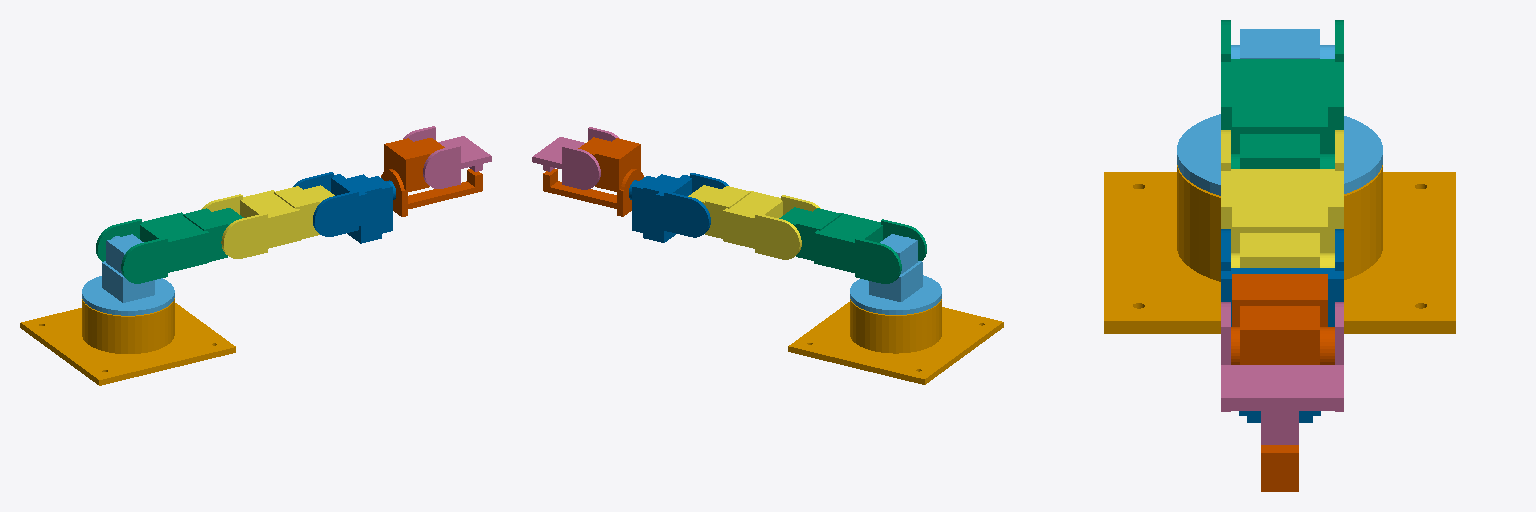
robot.urdf — hs_arm_a:
<?xml version="1.0"?>
<robot name="hs_arm_a">
  <!-- Generated by projects/hs-arm-a/build_arm.py. Masses: printed PLA at assumed density and fill plus cited servo masses. Inertia: box proxy from mesh extents. Joint limits come from motion_sweep (see verification.json). -->
  <link name="base_link">
    <inertial><origin xyz="-0.00464 0.00000 0.01444"/><mass value="0.2236"/><inertia ixx="4.594e-04" iyy="4.594e-04" izz="8.385e-04" ixy="0" ixz="0" iyz="0"/></inertial>
    <visual><geometry><mesh filename="meshes/base_link.stl" scale="0.001 0.001 0.001"/></geometry></visual>
    <collision><geometry><mesh filename="meshes/base_link.stl" scale="0.001 0.001 0.001"/></geometry></collision>
  </link>
  <link name="turntable_link">
    <inertial><origin xyz="0.00000 0.00023 0.03136"/><mass value="0.1151"/><inertia ixx="1.027e-04" iyy="1.031e-04" izz="1.481e-04" ixy="0" ixz="0" iyz="0"/></inertial>
    <visual><geometry><mesh filename="meshes/turntable_link.stl" scale="0.001 0.001 0.001"/></geometry></visual>
    <collision><geometry><mesh filename="meshes/turntable_link.stl" scale="0.001 0.001 0.001"/></geometry></collision>
  </link>
  <link name="upper_arm_link">
    <inertial><origin xyz="0.08136 0.00054 0.00000"/><mass value="0.1220"/><inertia ixx="4.418e-05" iyy="2.189e-04" izz="2.306e-04" ixy="0" ixz="0" iyz="0"/></inertial>
    <visual><geometry><mesh filename="meshes/upper_arm_link.stl" scale="0.001 0.001 0.001"/></geometry></visual>
    <collision><geometry><mesh filename="meshes/upper_arm_link.stl" scale="0.001 0.001 0.001"/></geometry></collision>
  </link>
  <link name="forearm_link">
    <inertial><origin xyz="0.06999 0.00057 0.00000"/><mass value="0.0937"/><inertia ixx="3.393e-05" iyy="1.469e-04" izz="1.558e-04" ixy="0" ixz="0" iyz="0"/></inertial>
    <visual><geometry><mesh filename="meshes/forearm_link.stl" scale="0.001 0.001 0.001"/></geometry></visual>
    <collision><geometry><mesh filename="meshes/forearm_link.stl" scale="0.001 0.001 0.001"/></geometry></collision>
  </link>
  <link name="wrist_link">
    <inertial><origin xyz="0.04583 0.00027 -0.00907"/><mass value="0.0860"/><inertia ixx="4.425e-05" iyy="9.388e-05" izz="8.899e-05" ixy="0" ixz="0" iyz="0"/></inertial>
    <visual><geometry><mesh filename="meshes/wrist_link.stl" scale="0.001 0.001 0.001"/></geometry></visual>
    <collision><geometry><mesh filename="meshes/wrist_link.stl" scale="0.001 0.001 0.001"/></geometry></collision>
  </link>
  <link name="gripper_link">
    <inertial><origin xyz="0.03573 0.00023 0.01649"/><mass value="0.0817"/><inertia ixx="3.757e-05" iyy="8.630e-05" izz="7.558e-05" ixy="0" ixz="0" iyz="0"/></inertial>
    <visual><geometry><mesh filename="meshes/gripper_link.stl" scale="0.001 0.001 0.001"/></geometry></visual>
    <collision><geometry><mesh filename="meshes/gripper_link.stl" scale="0.001 0.001 0.001"/></geometry></collision>
  </link>
  <link name="jaw_link">
    <inertial><origin xyz="0.02100 0.00110 -0.00146"/><mass value="0.0178"/><inertia ixx="6.446e-06" iyy="1.027e-05" izz="1.197e-05" ixy="0" ixz="0" iyz="0"/></inertial>
    <visual><geometry><mesh filename="meshes/jaw_link.stl" scale="0.001 0.001 0.001"/></geometry></visual>
    <collision><geometry><mesh filename="meshes/jaw_link.stl" scale="0.001 0.001 0.001"/></geometry></collision>
  </link>
  <joint name="base_yaw" type="revolute"><parent link="base_link"/><child link="turntable_link"/>
    <origin xyz="0.00000 0.00000 0.04000" rpy="0 0 0"/><axis xyz="0 0 1"/>
    <limit lower="-2.61799" upper="2.61799" effort="4.1" velocity="1.0"/></joint>
  <joint name="shoulder" type="revolute"><parent link="turntable_link"/><child link="upper_arm_link"/>
    <origin xyz="0.00000 0.00000 0.04995" rpy="0 0 0"/><axis xyz="0 1 0"/>
    <limit lower="-2.61799" upper="0.26180" effort="4.1" velocity="1.0"/></joint>
  <joint name="elbow" type="revolute"><parent link="upper_arm_link"/><child link="forearm_link"/>
    <origin xyz="0.11000 0.00000 0.00000" rpy="0 0 0"/><axis xyz="0 1 0"/>
    <limit lower="-1.83260" upper="1.48353" effort="4.1" velocity="1.0"/></joint>
  <joint name="wrist_pitch" type="revolute"><parent link="forearm_link"/><child link="wrist_link"/>
    <origin xyz="0.10000 0.00000 0.00000" rpy="0 0 0"/><axis xyz="0 1 0"/>
    <limit lower="-1.83260" upper="1.83260" effort="1.5" velocity="1.0"/></joint>
  <joint name="wrist_roll" type="revolute"><parent link="wrist_link"/><child link="gripper_link"/>
    <origin xyz="0.07200 0.00000 0.00000" rpy="0 0 0"/><axis xyz="1 0 0"/>
    <limit lower="-2.61799" upper="2.61799" effort="1.5" velocity="1.0"/></joint>
  <joint name="gripper" type="revolute"><parent link="gripper_link"/><child link="jaw_link"/>
    <origin xyz="0.04895 0.00000 0.02200" rpy="0 0 0"/><axis xyz="0 -1 0"/>
    <limit lower="0.00000" upper="1.22173" effort="1.5" velocity="1.0"/></joint>
</robot>

--- What the picture shows (computed from the rendered views, not written in the file) ---
3 views of the same robot in one strip: view 1: azimuth 30°, elevation 25°; view 2: azimuth 150°, elevation 25°; view 3: azimuth 270°, elevation 25° (orthographic).
Robot: hs_arm_a — 7 links, 6 joints (6 revolute); root link base_link; default pose: every joint at zero.
Links seen in each view (by area): view 1: base_link, upper_arm_link, forearm_link, wrist_link, turntable_link, gripper_link, jaw_link; view 2: base_link, upper_arm_link, forearm_link, wrist_link, turntable_link, gripper_link, jaw_link; view 3: base_link, upper_arm_link, forearm_link, gripper_link, jaw_link, turntable_link, wrist_link.
Link boxes in pixels (x1,y1,x2,y2): base_link: (20,298,235,385); upper_arm_link: (96,208,243,283); forearm_link: (201,185,334,258); wrist_link: (293,172,395,243); turntable_link: (82,234,174,315); gripper_link: (381,138,482,216); jaw_link: (403,126,491,188); base_link: (788,299,1003,384); upper_arm_link: (779,207,926,283); forearm_link: (688,185,820,259); wrist_link: (629,173,728,242); turntable_link: (850,234,941,314); gripper_link: (543,137,643,216); jaw_link: (532,127,619,189); base_link: (1104,165,1455,333); upper_arm_link: (1221,20,1343,168); forearm_link: (1221,130,1343,267); gripper_link: (1231,274,1334,491); jaw_link: (1221,302,1343,444); turntable_link: (1177,29,1382,195); wrist_link: (1221,229,1343,422).
Bounding box of the posed robot: 0.4589 × 0.15 × 0.132 m (x, y, z).
7 mesh visuals loaded from 7 distinct referenced files (7 binary STL).
